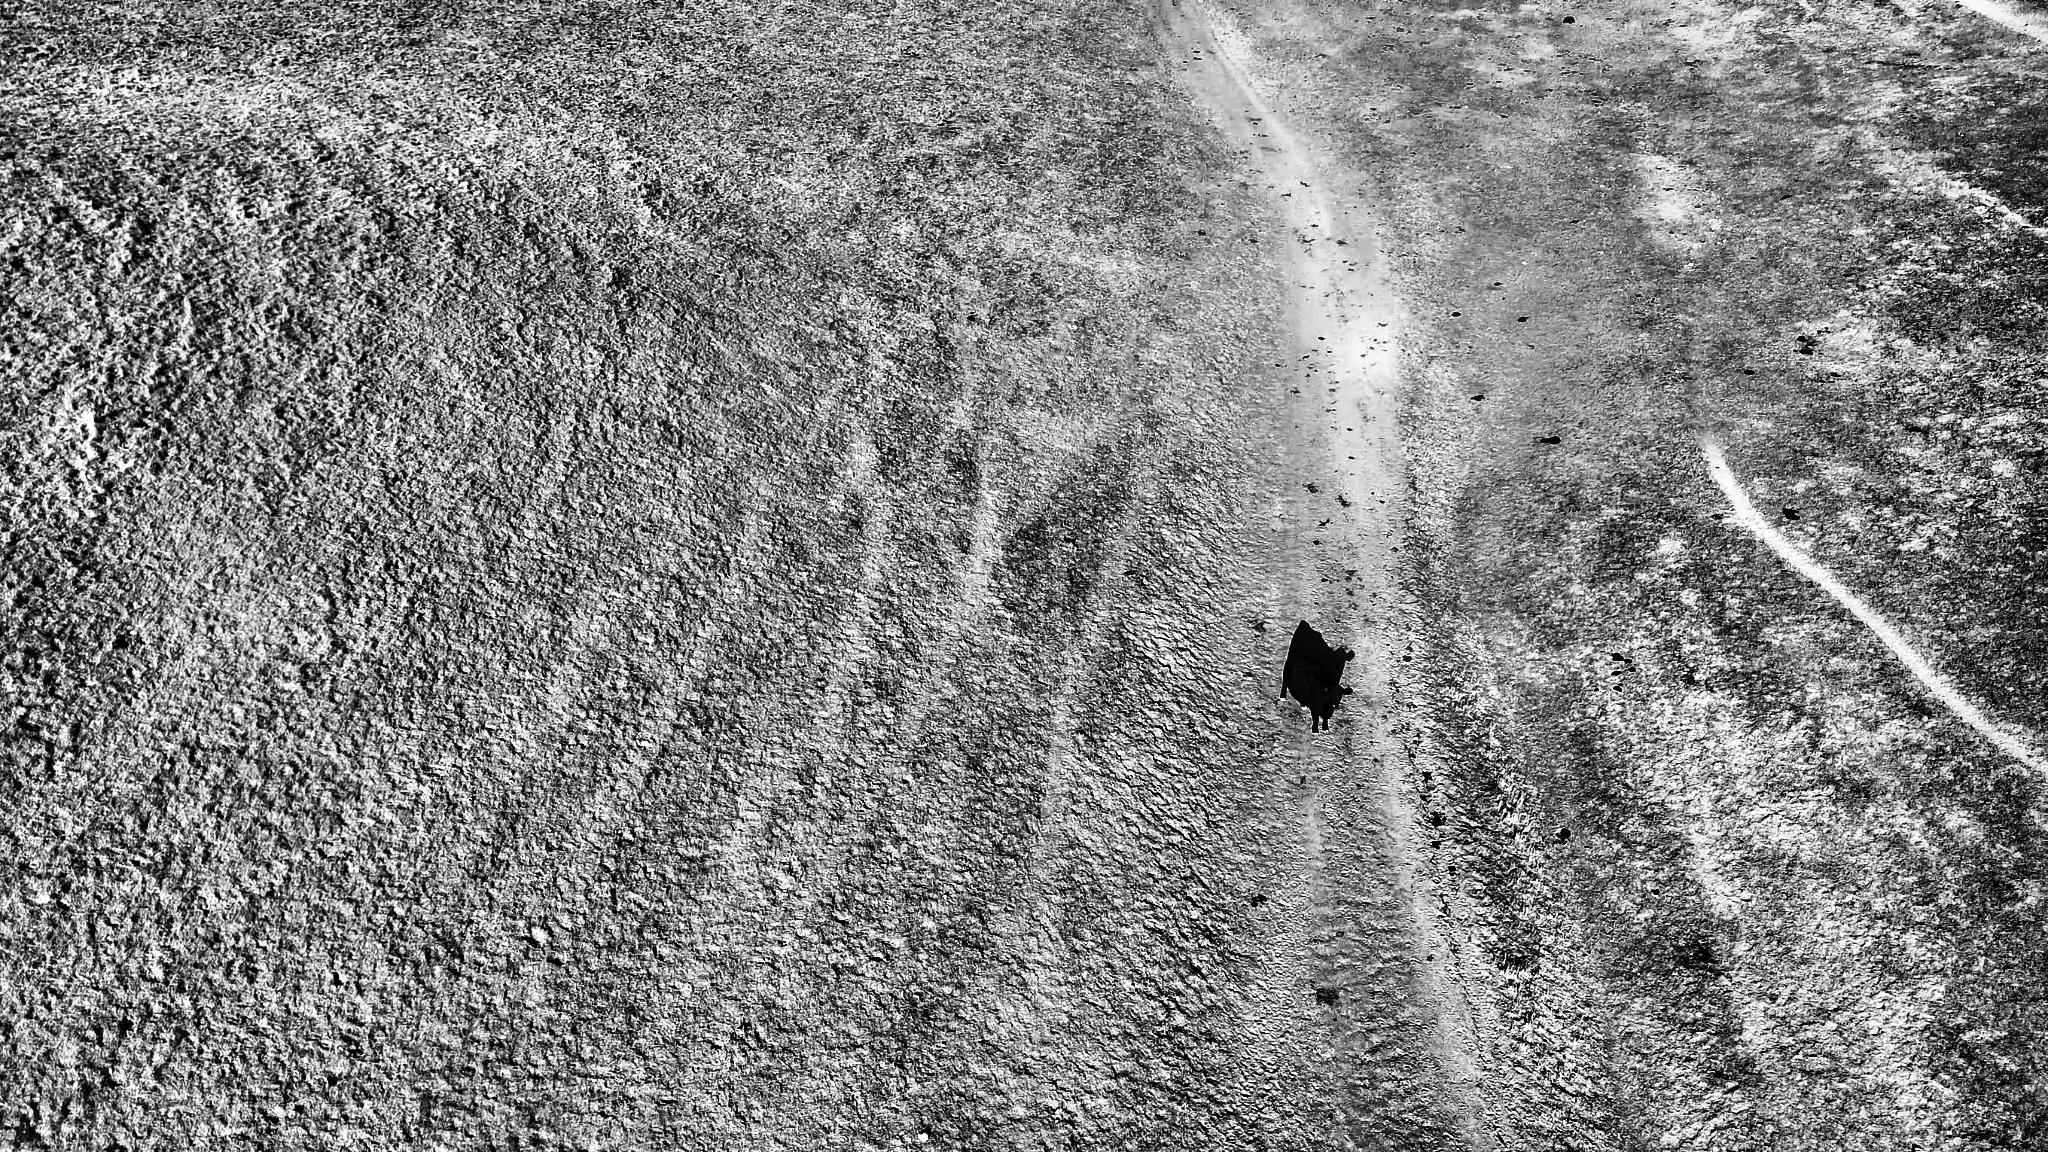herd: (1279, 643, 1356, 745)
